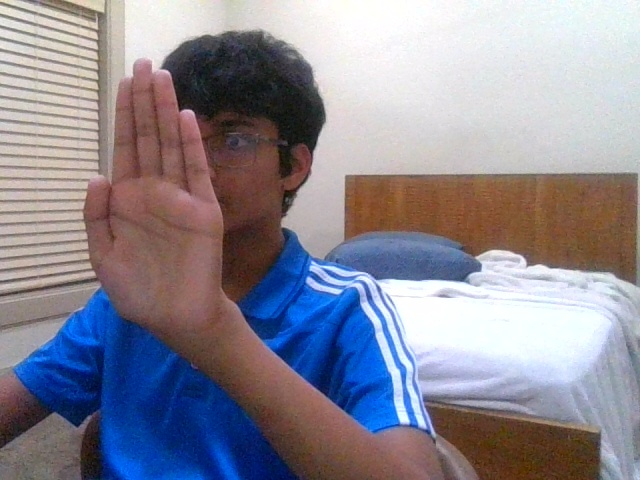hello: (83, 60, 224, 332)
